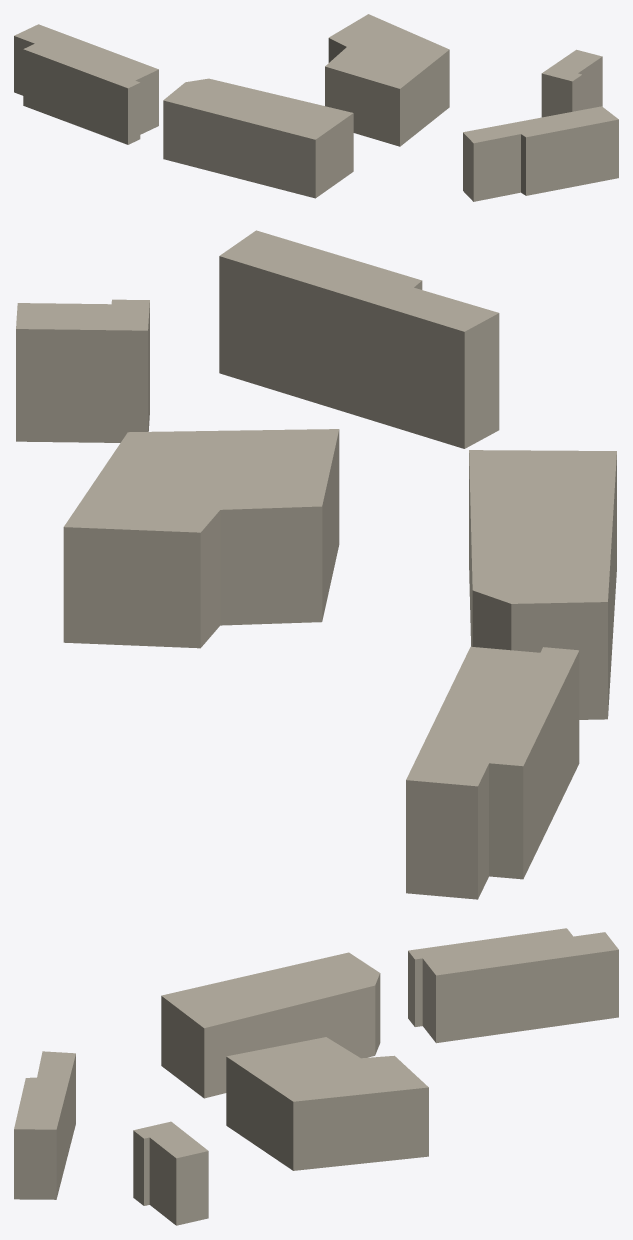
Rendered from kalkara_67_26_far.glb.
The picture shows the model from 3 angles, top to bottom: view 1: azimuth 30°, elevation 25°; view 2: azimuth 150°, elevation 25°; view 3: azimuth 270°, elevation 25°; orthographic projection. The views are drawn at different scales.
Visible parts, largest first — view 1: geometry_0; view 2: geometry_0; view 3: geometry_0.
Boxes of the visible parts, x1,y1,x2,y2 form: geometry_0: (14, 14, 618, 201); geometry_0: (16, 230, 616, 899); geometry_0: (14, 928, 618, 1225).
Bounding box in the file's own units: 80.74 × 12.47 × 84.98.
